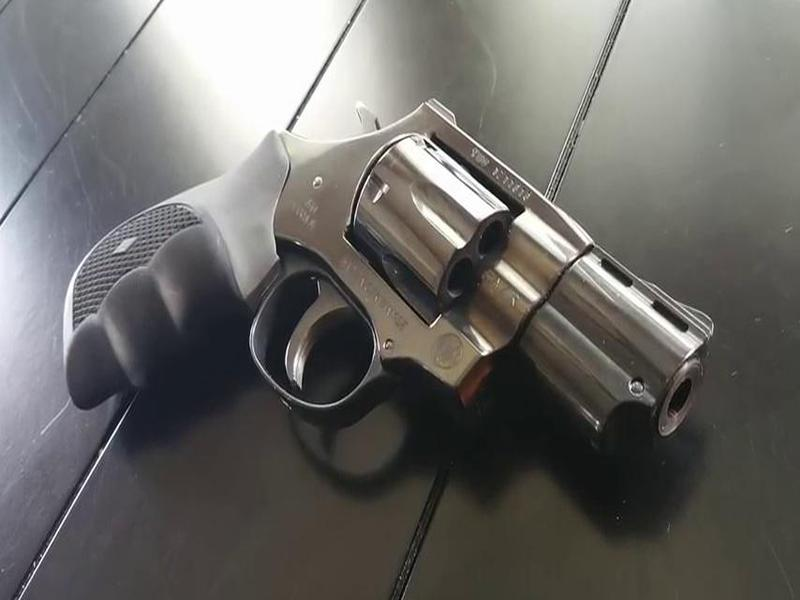Revolver: (48, 94, 723, 476)
